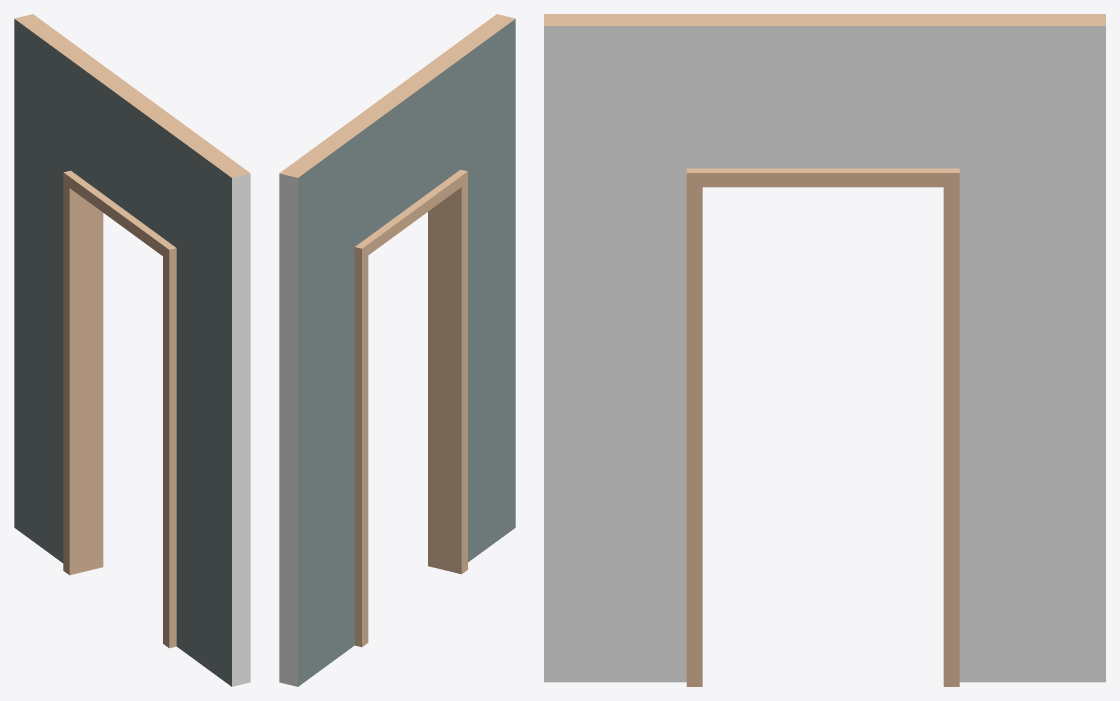
The model's file is wallDoorway-col.glb.
The picture shows the model from 3 angles, left to right: view 1: azimuth 30°, elevation 25°; view 2: azimuth 150°, elevation 25°; view 3: azimuth 270°, elevation 25°; orthographic projection. The views are drawn at different scales.
Parts seen in each view (by area): view 1: wallDoorway-col; view 2: wallDoorway-col; view 3: wallDoorway-col.
Part boxes in pixels (left/top/right/bottom): wallDoorway-col: left=14, top=14, right=250, bottom=686; wallDoorway-col: left=279, top=14, right=515, bottom=686; wallDoorway-col: left=544, top=14, right=1105, bottom=686.
Size of the model in its own units: 0.0891 by 1.29 by 1.
